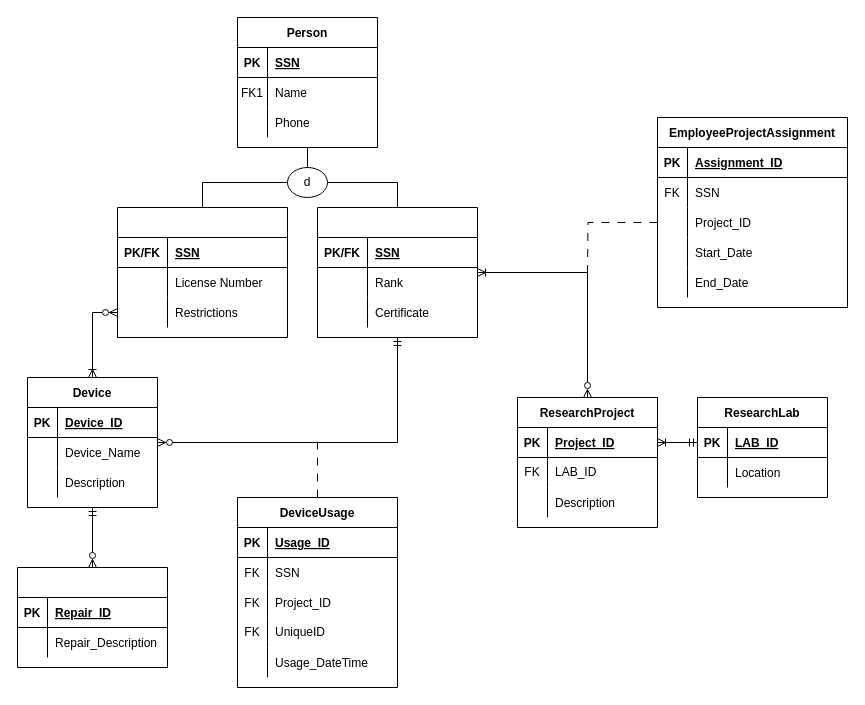
The diagram is 865 pixels wide and 705 high, and some of its shapes have lost their labels. Here are the shapes that lost their labels. From the top down, the box of each, then its label:
(116, 206, 288, 338): Technician
(316, 206, 478, 338): Researcher
(16, 566, 168, 668): RepairHistory
